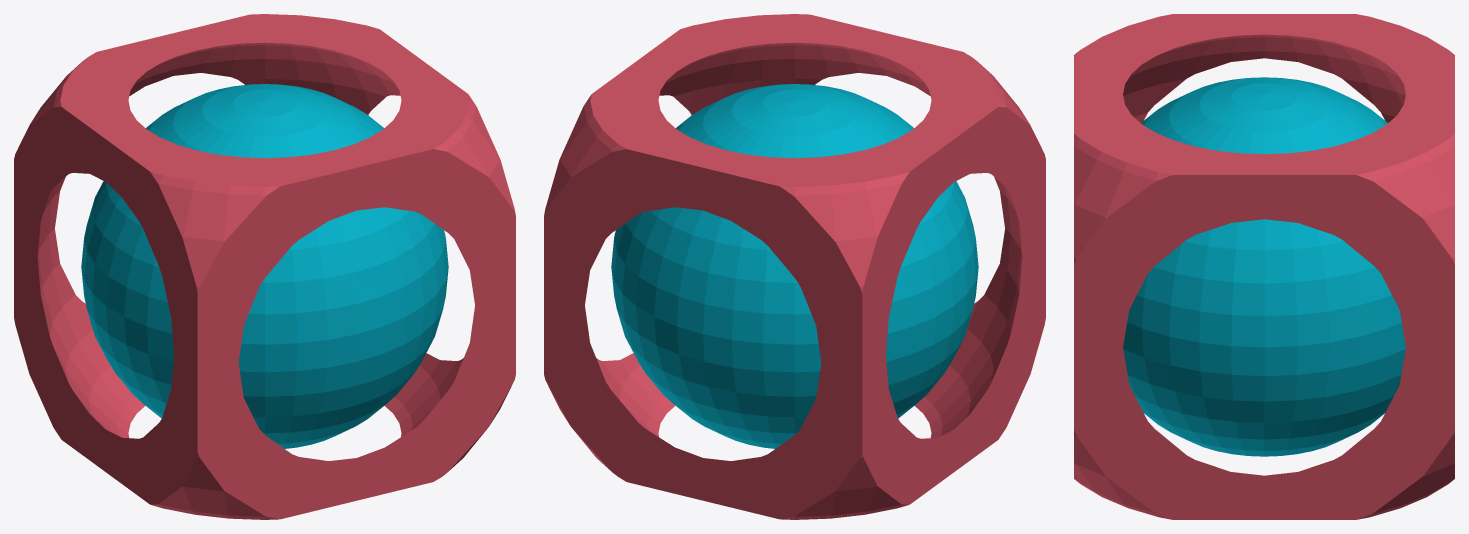
Rendered from Bola enjaulada.glb.
3 views of the same model, side by side, from view 1: azimuth 30°, elevation 25°; view 2: azimuth 150°, elevation 25°; view 3: azimuth 270°, elevation 25° (orthographic). The views are drawn at different scales.
Parts seen in each view (by area): view 1: Mesh_Mesh_head_geo.001_lambert2SG.001; view 2: Mesh_Mesh_head_geo.001_lambert2SG.001; view 3: Mesh_Mesh_head_geo.001_lambert2SG.001.
Boxes of the visible parts, x1,y1,x2,y2 form: Mesh_Mesh_head_geo.001_lambert2SG.001: (14, 14, 515, 519); Mesh_Mesh_head_geo.001_lambert2SG.001: (544, 14, 1045, 519); Mesh_Mesh_head_geo.001_lambert2SG.001: (1074, 14, 1454, 519).
Size of the model in its own units: 0.02 by 0.02 by 0.02.
